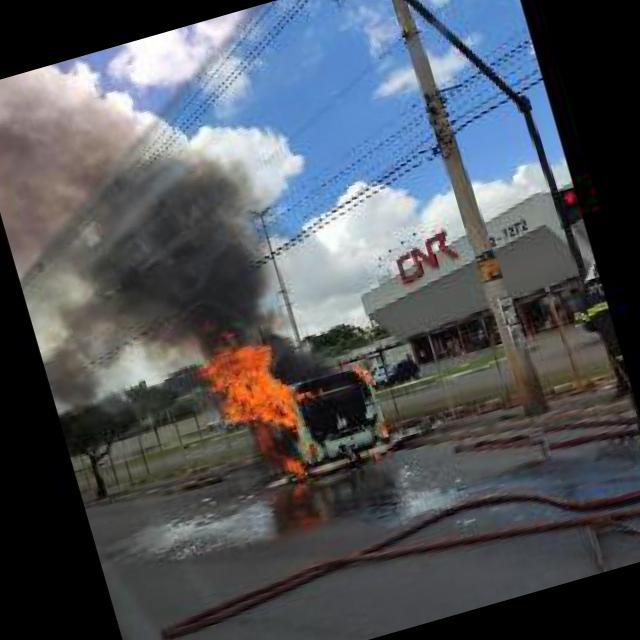fire: (190, 314, 324, 454), (278, 450, 304, 478), (354, 362, 373, 384), (377, 420, 388, 436)
smoke: (0, 112, 299, 405)
